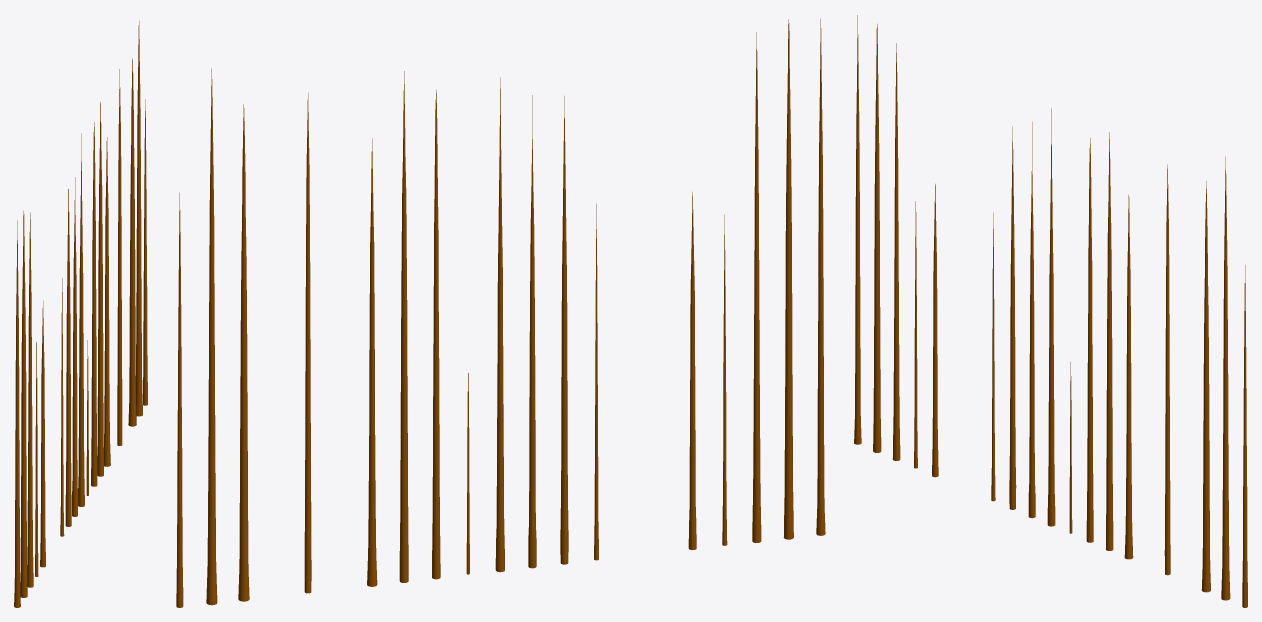
Rendered from forest.glb.
3 views of the same model, side by side, from view 1: azimuth 30°, elevation 25°; view 2: azimuth 150°, elevation 25°; view 3: azimuth 270°, elevation 25° (orthographic). The views are drawn at different scales.
Parts seen in each view (by area): view 1: T_002, T_019, T_020, T_014, T_013, T_003, T_001, T_011, T_017, T_009, T_015, T_010 (+5 smaller); view 2: T_002, T_019, T_020, T_014, T_013, T_001, T_003, T_011, T_017, T_009, T_015, T_010 (+4 smaller); view 3: T_002, T_020, T_019, T_014, T_013, T_001, T_003, T_011, T_017, T_015, T_009, T_010 (+4 smaller).
Boxes of the visible parts, left/top/right/bottom form: T_002: left=20, top=211, right=27, bottom=597; T_019: left=128, top=58, right=136, bottom=426; T_020: left=136, top=21, right=142, bottom=416; T_014: left=97, top=102, right=103, bottom=476; T_013: left=91, top=122, right=97, bottom=486; T_003: left=27, top=212, right=33, bottom=587; T_001: left=14, top=220, right=20, bottom=607; T_011: left=78, top=133, right=84, bottom=506; T_017: left=117, top=69, right=122, bottom=445; T_009: left=65, top=189, right=71, bottom=526; T_015: left=103, top=137, right=110, bottom=466; T_010: left=72, top=177, right=77, bottom=516; T_002: left=783, top=19, right=793, bottom=539; T_019: left=238, top=104, right=249, bottom=601; T_020: left=206, top=68, right=217, bottom=605; T_014: left=399, top=71, right=408, bottom=582; T_013: left=432, top=90, right=440, bottom=579; T_001: left=816, top=19, right=825, bottom=535; T_003: left=752, top=32, right=761, bottom=542; T_011: left=495, top=77, right=504, bottom=572; T_017: left=304, top=92, right=311, bottom=593; T_009: left=560, top=96, right=568, bottom=564; T_015: left=367, top=138, right=377, bottom=586; T_010: left=528, top=95, right=536, bottom=568; T_002: left=873, top=24, right=881, bottom=452; T_020: left=1221, top=156, right=1230, bottom=600; T_019: left=1201, top=181, right=1210, bottom=592; T_014: left=1105, top=132, right=1113, bottom=550; T_013: left=1086, top=138, right=1093, bottom=542; T_001: left=854, top=15, right=861, bottom=444; T_003: left=892, top=43, right=900, bottom=460; T_011: left=1047, top=108, right=1055, bottom=526; T_017: left=1164, top=164, right=1170, bottom=575; T_015: left=1124, top=195, right=1133, bottom=559; T_009: left=1009, top=126, right=1016, bottom=509; T_010: left=1028, top=122, right=1035, bottom=518.
Size of the model in its own units: 20.34 by 25.3 by 20.34.
